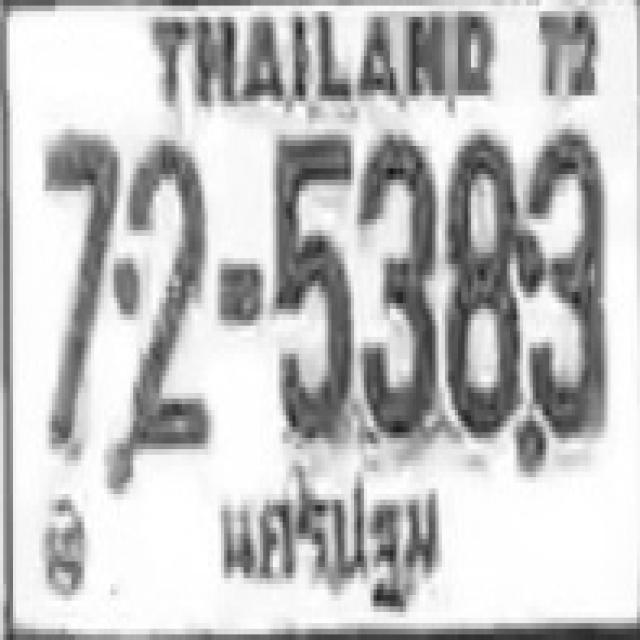2: (112, 134, 210, 454)
3: (520, 124, 604, 444), (358, 132, 436, 435)
5: (272, 129, 350, 438)
7: (41, 126, 118, 458), (42, 126, 117, 368)
8: (445, 129, 523, 432)
NakhonPathom: (208, 468, 446, 620)
